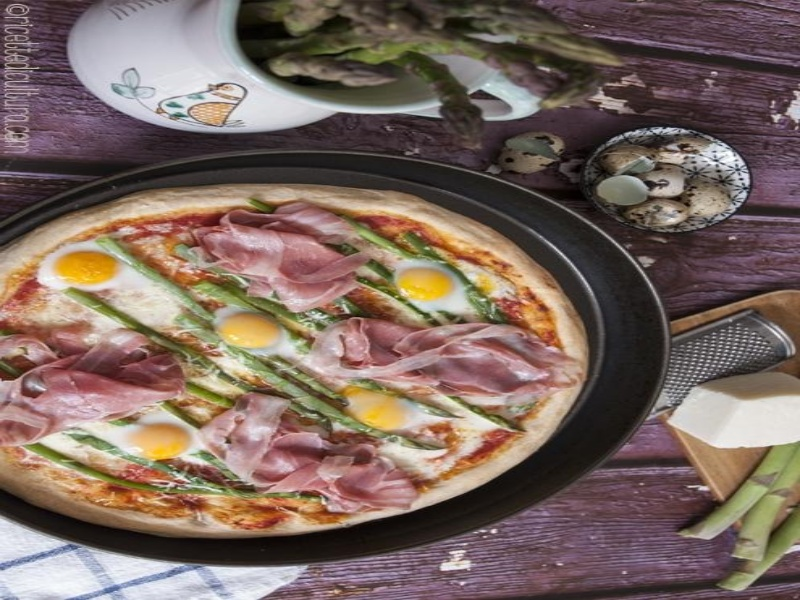oeuf: (338, 378, 433, 438), (120, 415, 214, 473), (46, 237, 126, 296), (389, 261, 464, 313), (214, 307, 293, 356)
